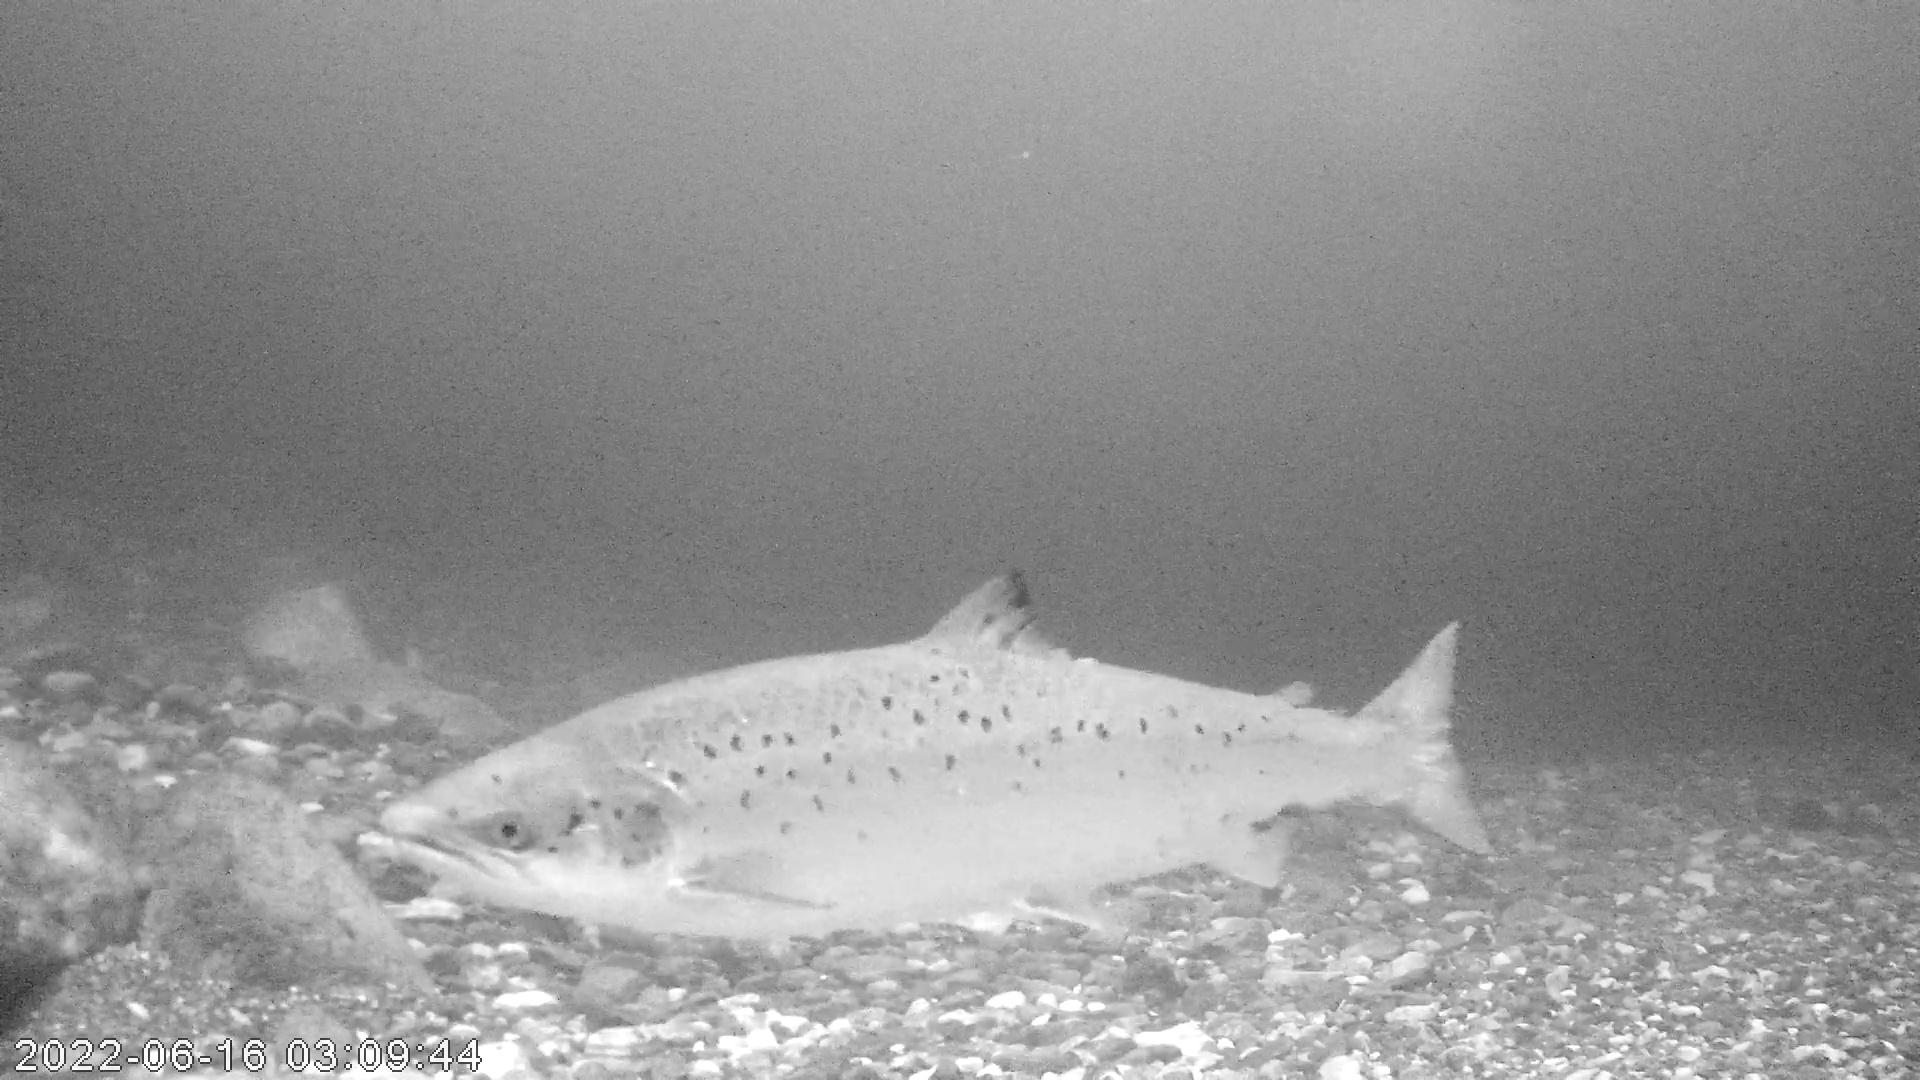salmon: (380, 567, 1495, 939)
